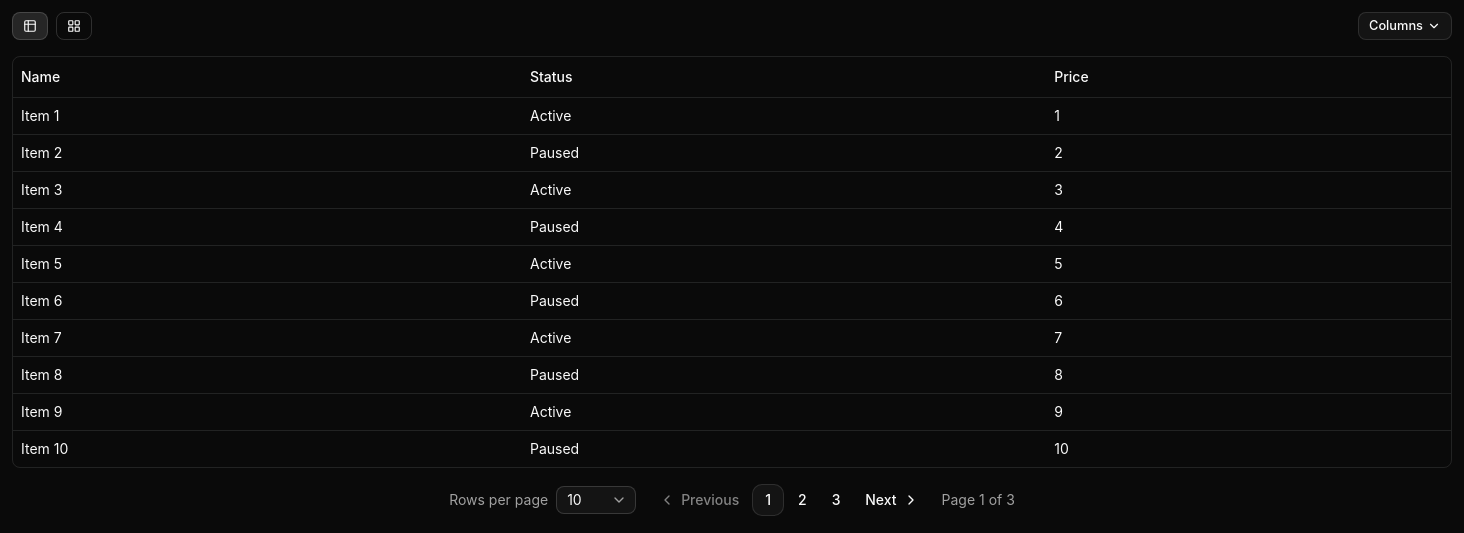
Scenario: CollectionView › renders the table by default and switches to the grid
Click the button named "Grid view" at (74, 26), box [56,12,92,40]
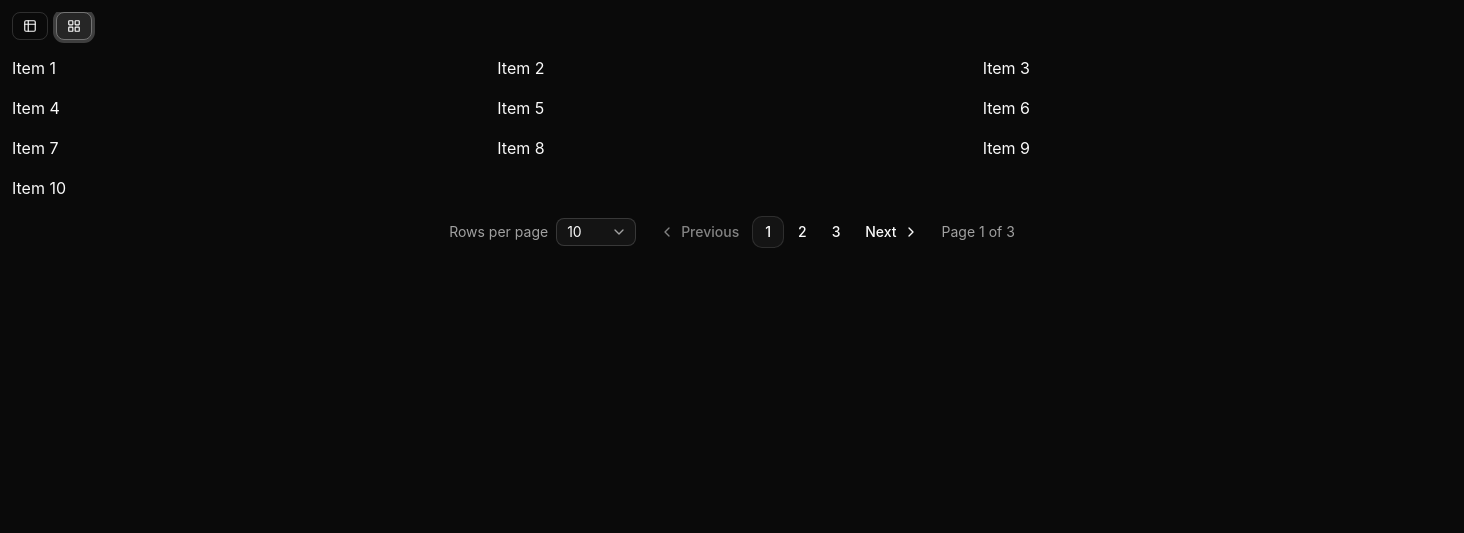
Click the button named "Table view" at (30, 26), box [12,12,48,40]
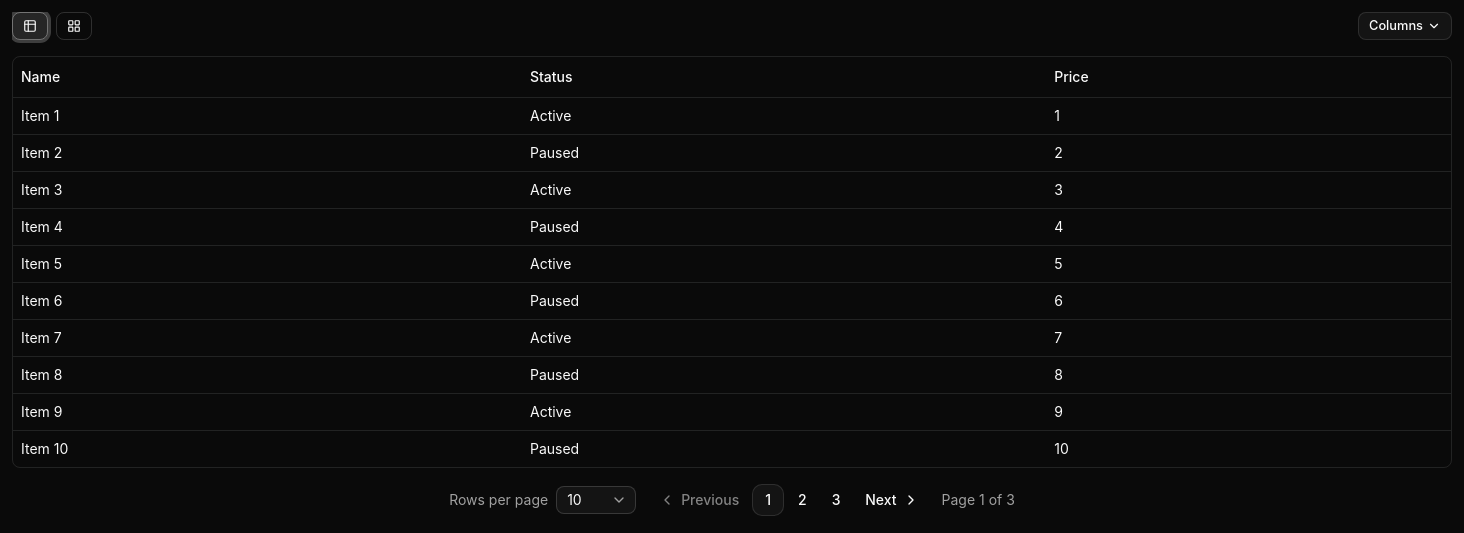
Check: the element that starts with "Name" is shown
